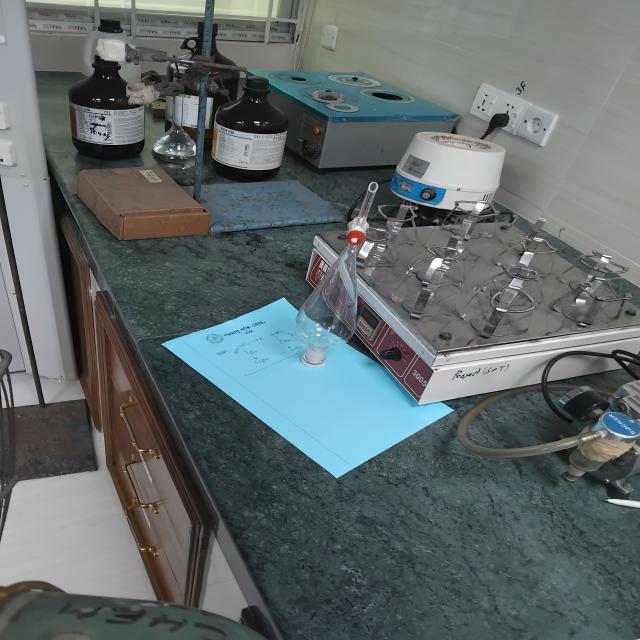Separating_Funnel: (276, 158, 404, 386)
